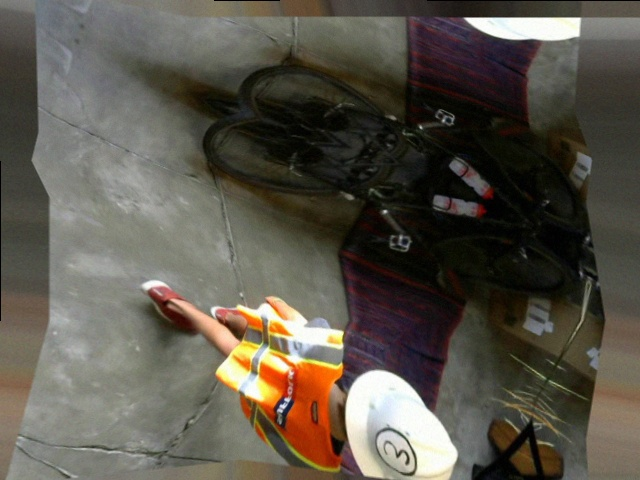three: (371, 418, 420, 479)
